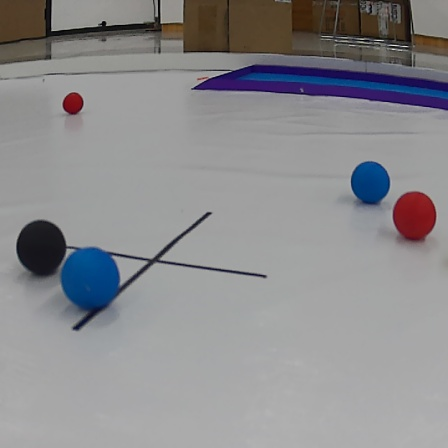black: (13, 216, 63, 275)
blue: (55, 246, 123, 312), (350, 162, 390, 204)
blue_aim: (197, 63, 448, 108)
red: (391, 190, 437, 241), (62, 88, 85, 115)
